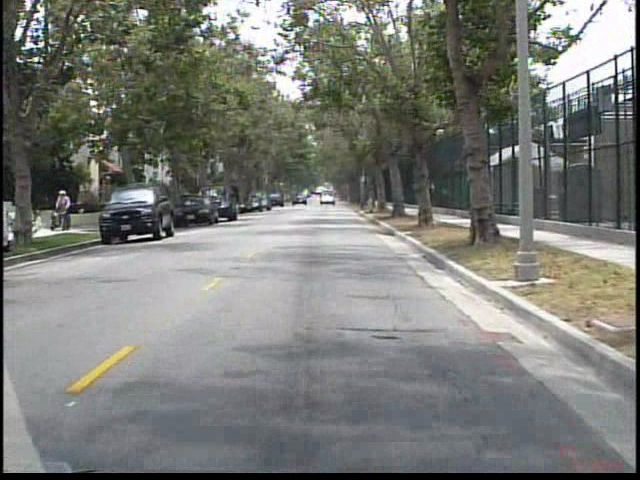person: (55, 188, 77, 233)
